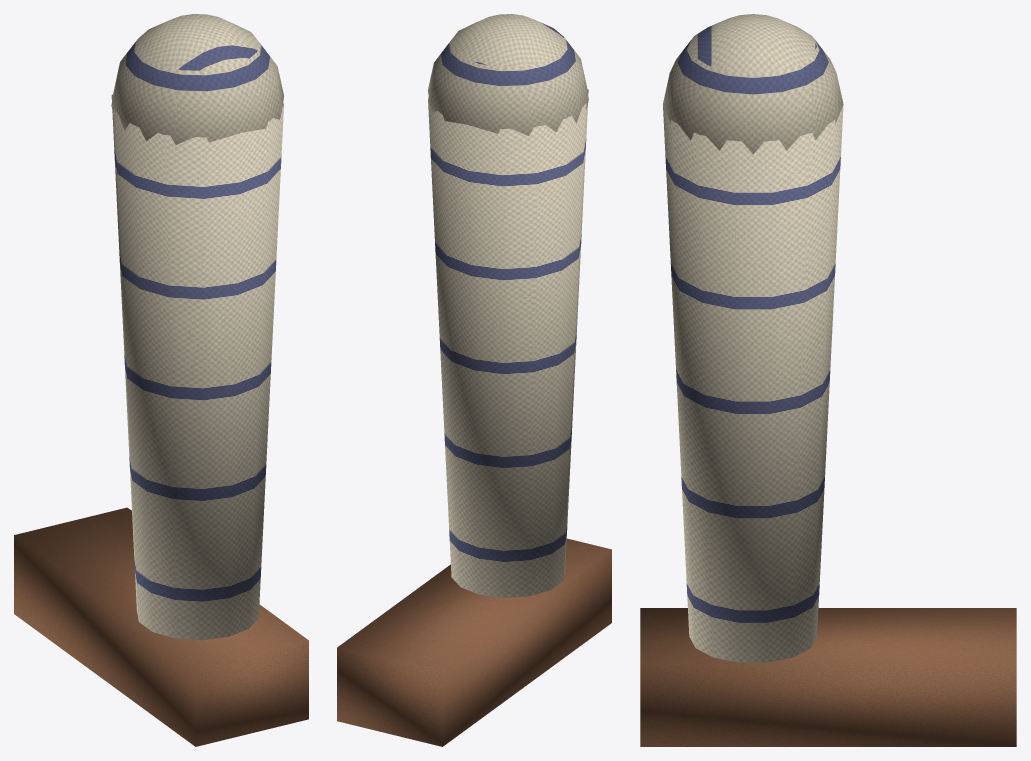
Rendered from pierna.obj.
The picture shows the model from 3 angles, left to right: view 1: azimuth 30°, elevation 25°; view 2: azimuth 150°, elevation 25°; view 3: azimuth 270°, elevation 25°; orthographic projection. The views are drawn at different scales.
Visible parts, largest first — view 1: pierna; view 2: pierna; view 3: pierna.
Boxes of the visible parts, x1,y1,x2,y2 form: pierna: (14,14,308,746); pierna: (337,14,611,746); pierna: (640,14,1016,746).
Size of the model in its own units: 0.12 by 0.51 by 0.25.
Materials: 2 (2 with a texture image).
